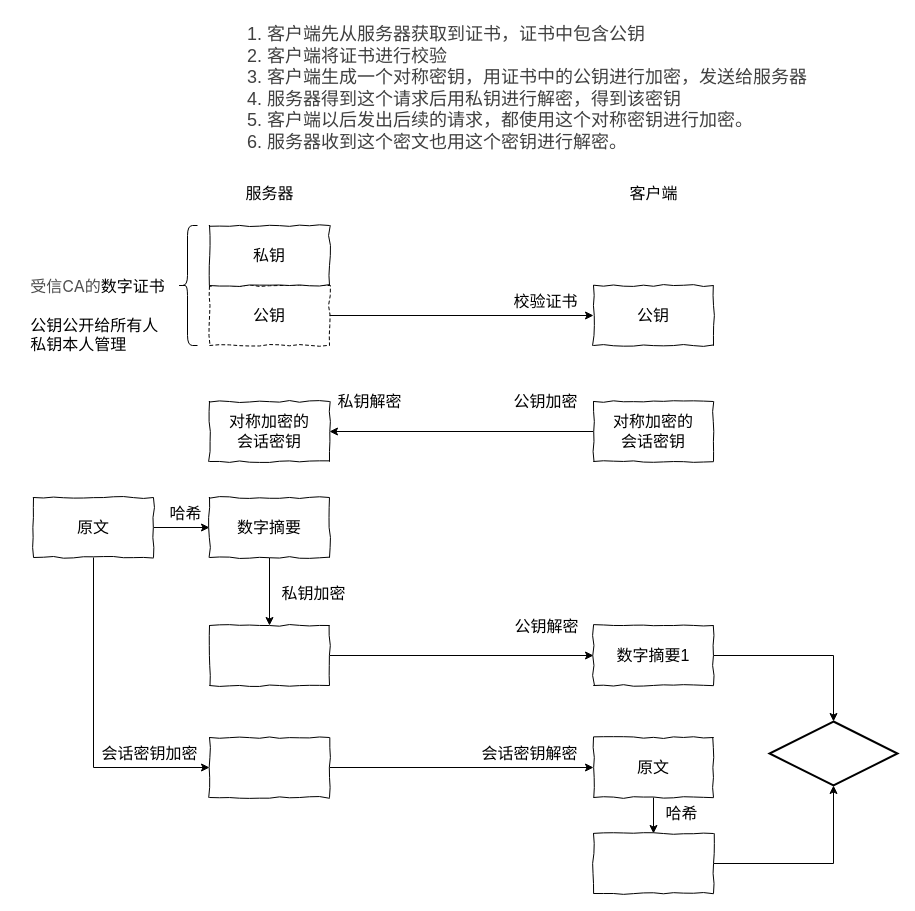
The diagram is 915 pixels wide and 911 high, and some of its shapes have lost their labels. Here are the shapes that lost their labels. From the top down, the box of each, then its label:
(208, 624, 330, 686): 数字签名
(208, 736, 330, 798): 加密文件
(768, 720, 898, 786): 是否相同
(592, 832, 714, 894): 数字摘要2
